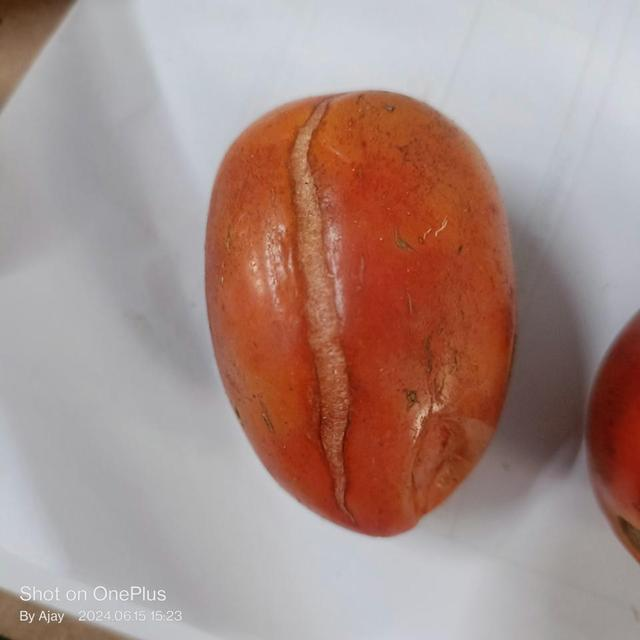Cracking Fruit: (94, 51, 296, 260)
